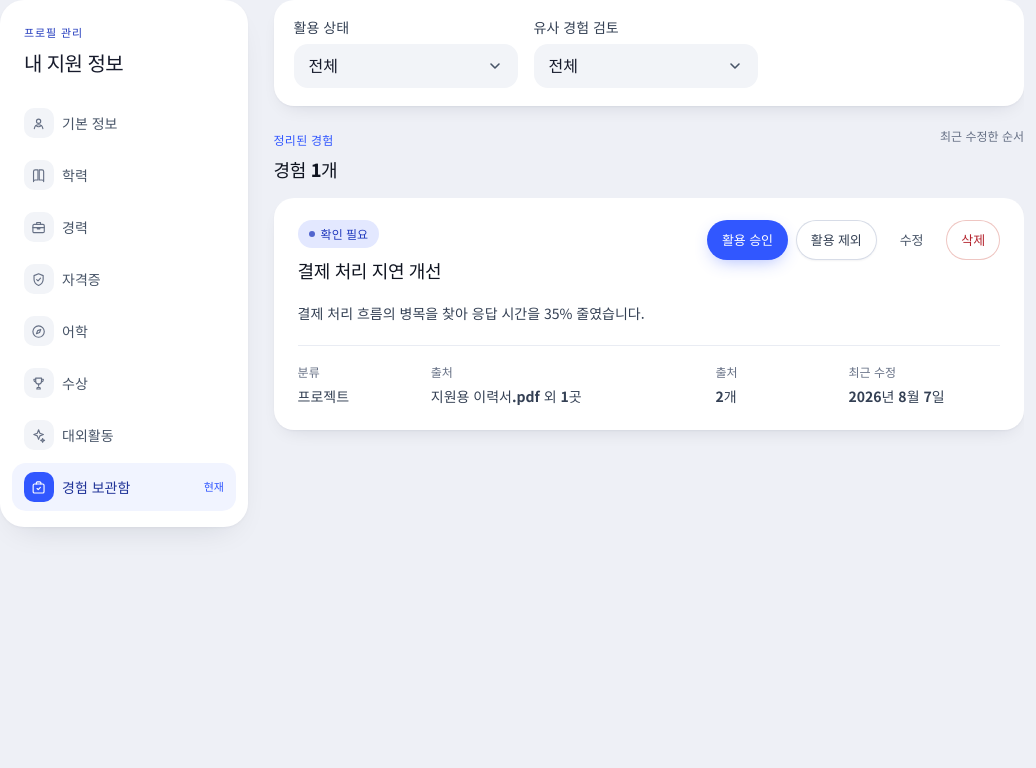
Test: ExperienceLibraryPage › deletes an experience after confirmation and removes it from the library
Step 1. Click the button "삭제" → (973, 240), box x1=946 y1=220 x2=1000 y2=260
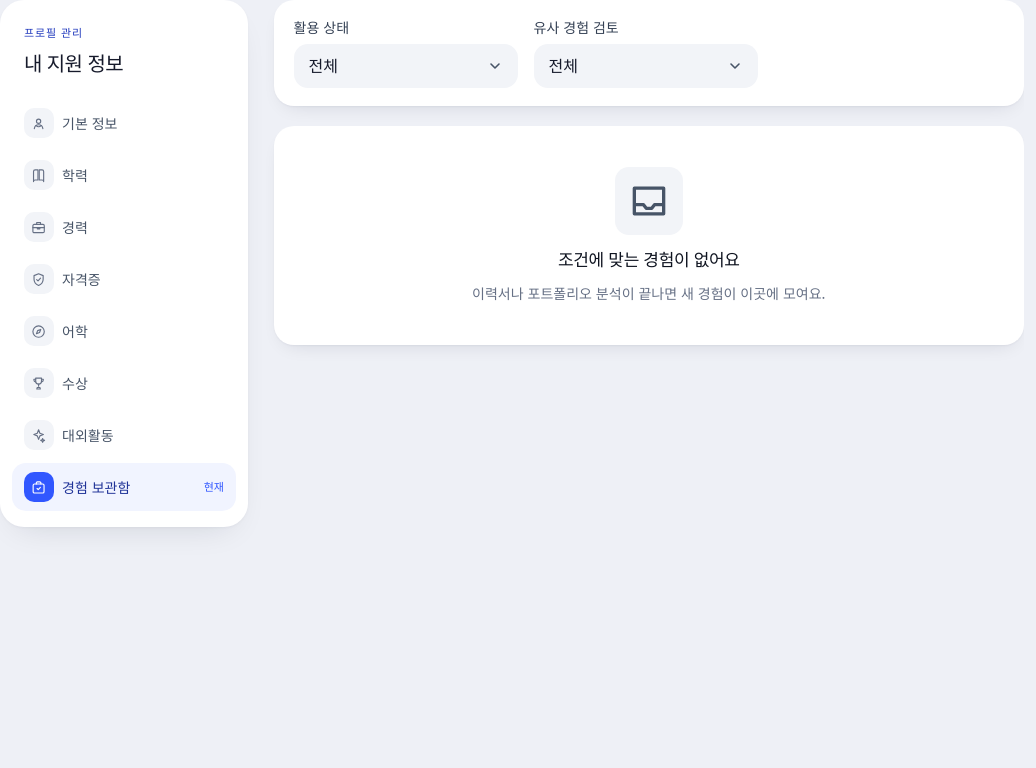
Expected: the text "조건에 맞는 경험이 없어요" is shown, x1=558 y1=244 x2=740 y2=272
